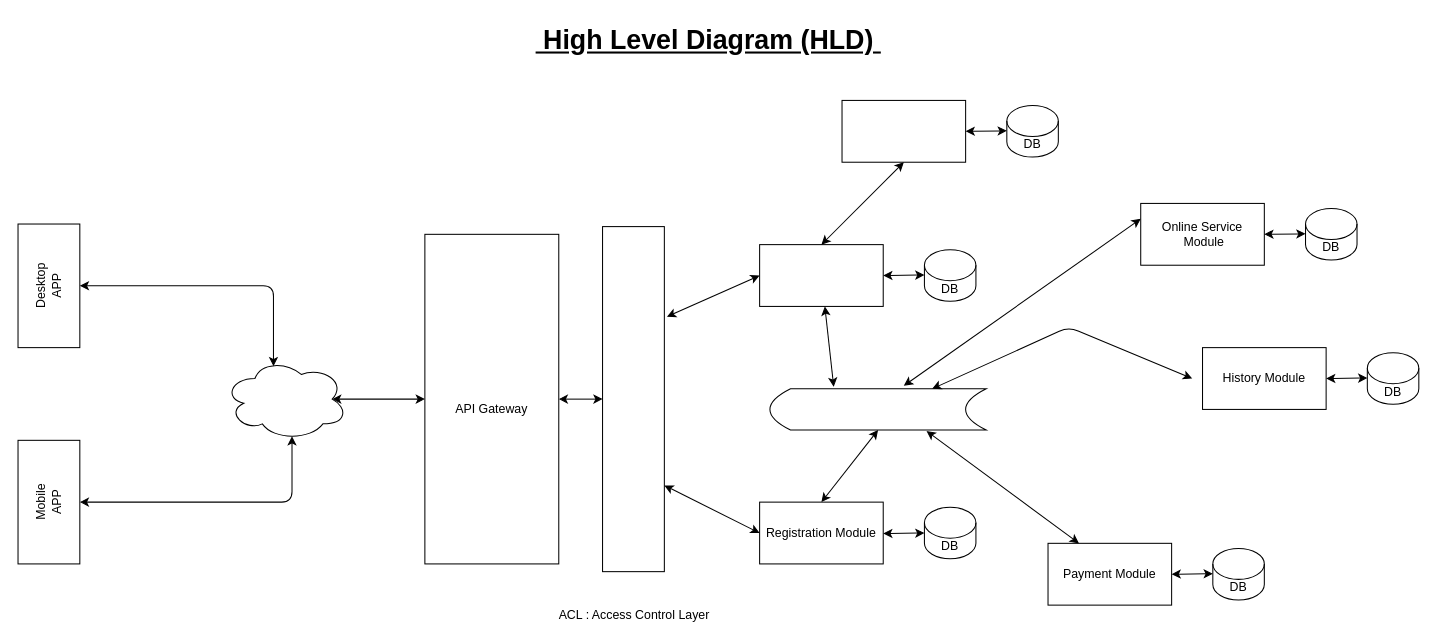
The diagram is 1437 pixels wide and 643 high, and some of its shapes have lost their labels. Here are the shapes that lost their labels. From the top down, the centre of each, then its label:
At [903,130]: "Available Courses Module".
At [821,275]: "Login Module".
At [285,398]: "Internet".
At [633,399]: "ACL".
At [877,409]: "Event Bus".
